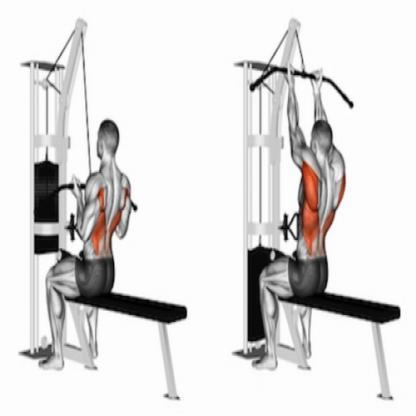Lat Pull Down: (10, 7, 192, 408), (228, 14, 404, 404)
